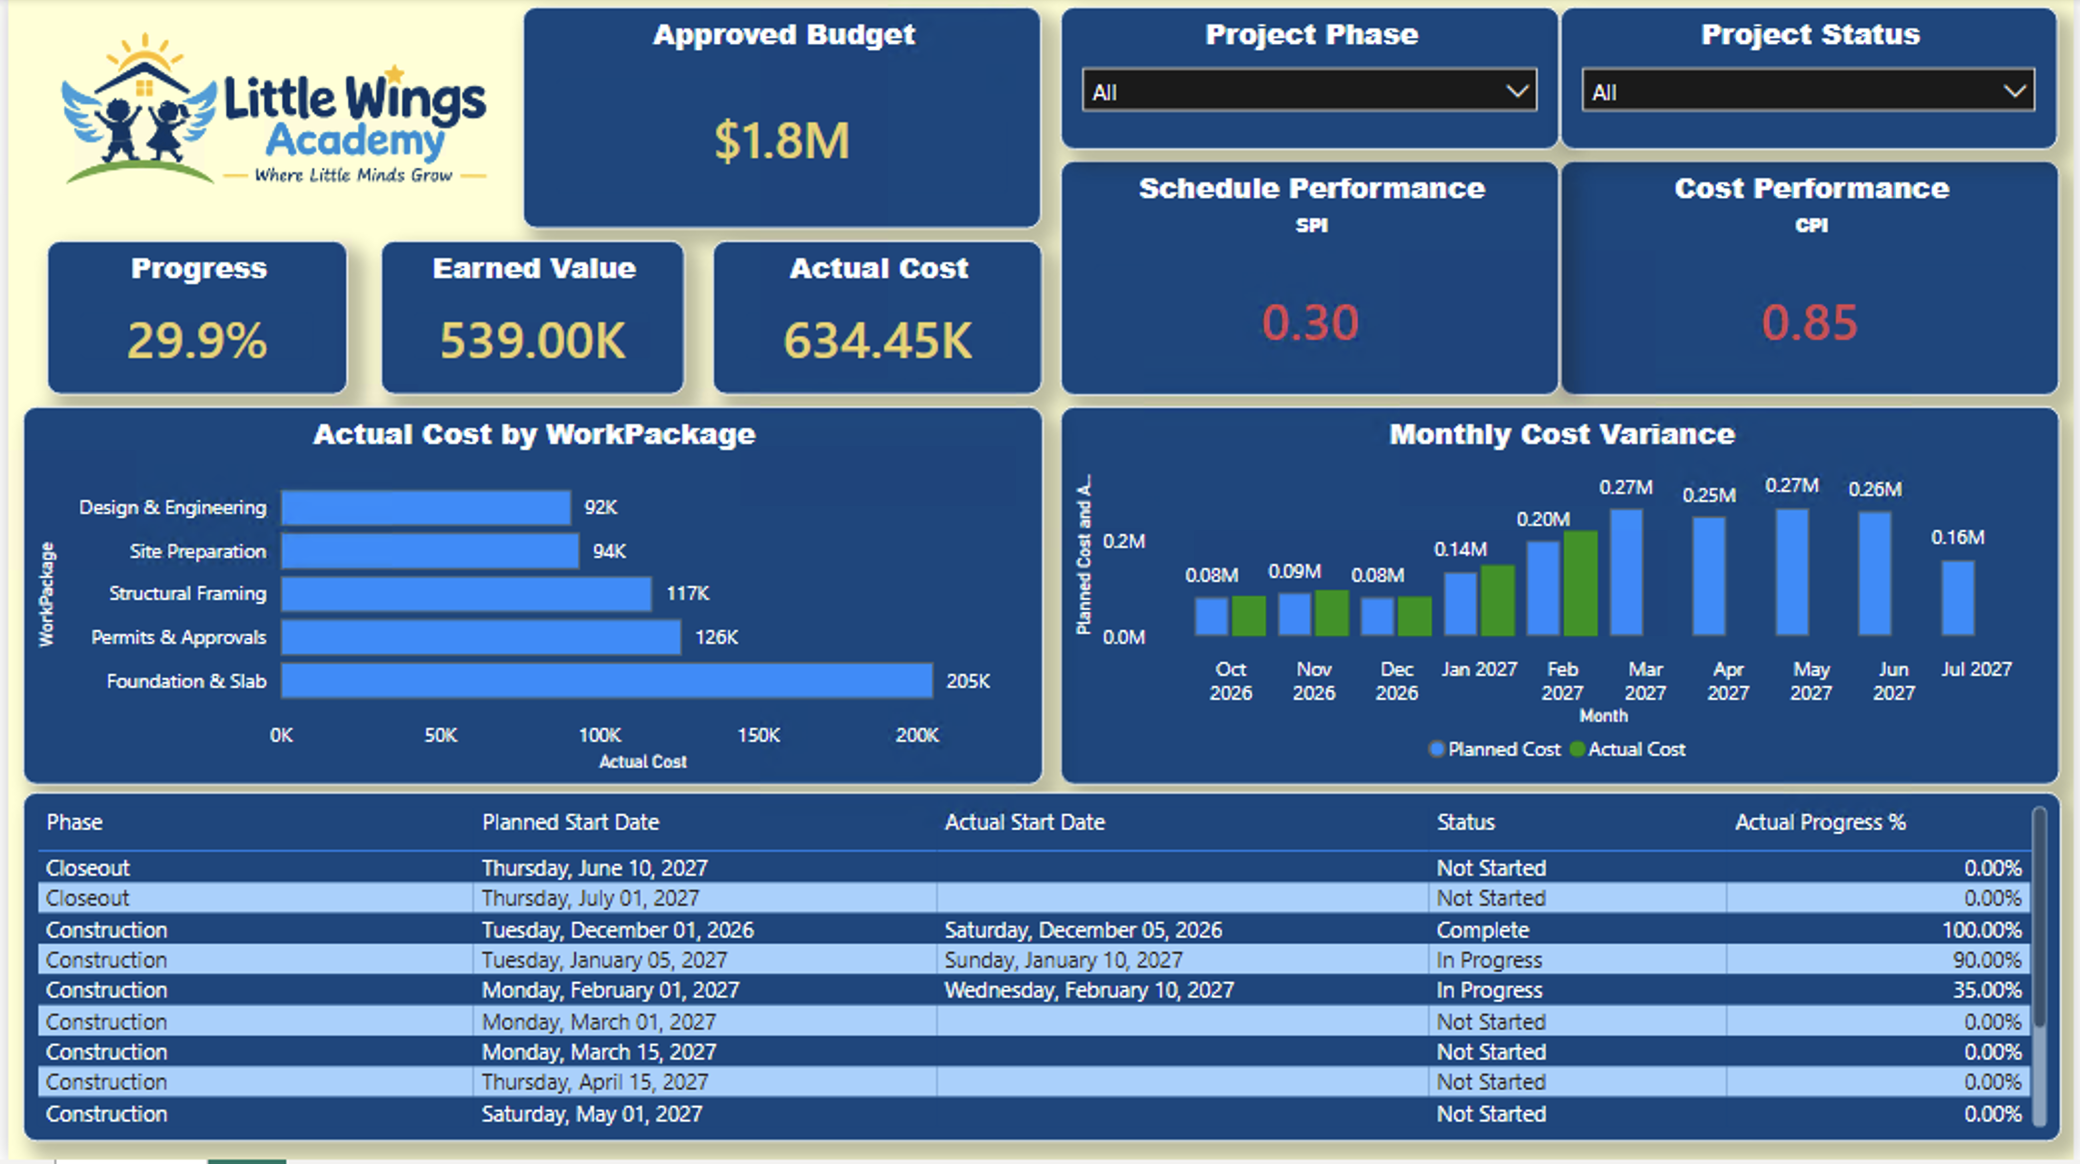

Layout of this report page (visuals, bound fields, positions):
{"tool":"powerbi","page":{"name":"Page 1","canvas":[1280,720],"ordinal":0},"visuals":[{"type":"cardVisual","title":"Approved Budget","fields":{"Data":["Calendar.Total Budget"]},"box":[318.3,5.4,322.4,137.6],"z":0},{"type":"cardVisual","title":"Actual Cost","fields":{"Data":["Calendar.Actual Cost"]},"box":[435.7,149.7,205,95.8],"z":1000},{"type":"cardVisual","title":"Earned Value","fields":{"Data":["Calendar.Earned Value"]},"box":[230.6,149.7,188.8,95.8],"z":2000},{"type":"cardVisual","title":"Progress","fields":{"Data":["Calendar.Actual Progress %"]},"box":[22.9,149.7,187.5,95.8],"z":3000},{"type":"cardVisual","title":"Cost Performance","fields":{"Data":["Calendar.Cost Performance Index"]},"box":[961.7,99.8,310.2,145.7],"z":4000},{"type":"cardVisual","title":"Schedule Performance","fields":{"Data":["Calendar.Schedule Performance Index"]},"box":[651.5,99.8,310.2,145.7],"z":5000},{"type":"clusteredColumnChart","title":"Monthly Cost Variance","fields":{"Y":["Calendar.Planned Cost","Calendar.Actual Cost"],"Category":["Calendar.Month"]},"box":[651.5,252.2,620.4,234.7],"z":6000},{"type":"clusteredBarChart","fields":{"Category":["Costs.WorkPackage"],"Y":["Calendar.Actual Cost"]},"box":[8.1,252.2,632.6,234.7],"z":7000},{"type":"tableEx","fields":{"Values":["Tasks.Phase","Tasks.Planned Start Date","Tasks.Actual Start Date","Tasks.Status","Calendar.Actual Progress %"]},"box":[8.1,492.3,1263.8,217.2],"z":8000},{"type":"slicer","title":"Project Phase","fields":{"Values":["Tasks.Phase"]},"box":[651.5,5.4,310.2,89],"z":9000},{"type":"slicer","title":"Project Status","fields":{"Values":["Tasks.Status"]},"box":[961.7,5.4,308.9,89],"z":10000},{"type":"image","box":[22.9,0,284.6,149.7],"z":11000}]}

Visuals, with their boxes in screenshot pixels (x1, y1, x2, y2), scaled from the page's 1280x720 canvas onto the 2080x1164 screenshot:
"Approved Budget" cardVisual: (517,9,1041,231)
"Actual Cost" cardVisual: (708,242,1041,397)
"Earned Value" cardVisual: (375,242,682,397)
"Progress" cardVisual: (37,242,342,397)
"Cost Performance" cardVisual: (1563,161,2067,397)
"Schedule Performance" cardVisual: (1059,161,1563,397)
"Monthly Cost Variance" clusteredColumnChart: (1059,408,2067,787)
clusteredBarChart - Costs.WorkPackage x Calendar.Actual Cost: (13,408,1041,787)
tableEx - Tasks.Phase x Tasks.Planned Start Date: (13,796,2067,1147)
"Project Phase" slicer: (1059,9,1563,153)
"Project Status" slicer: (1563,9,2065,153)
image: (37,0,500,242)
